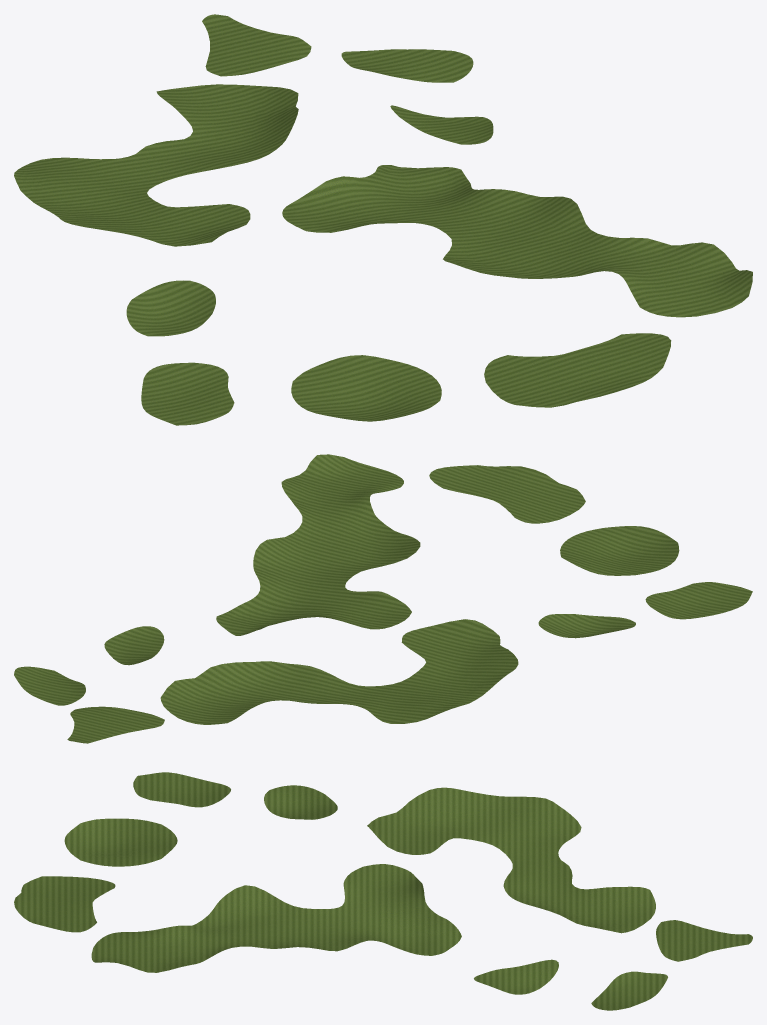
The model's file is fairway.fbx.
3 views of the same model, one above another, from view 1: azimuth 30°, elevation 25°; view 2: azimuth 150°, elevation 25°; view 3: azimuth 270°, elevation 25° (orthographic). The views are drawn at different scales.
Parts seen in each view (by area): view 1: fairway1; view 2: fairway1; view 3: fairway1.
Boxes of the visible parts, x1,y1,x2,y2 form: fairway1: (14, 14, 752, 425); fairway1: (14, 454, 752, 743); fairway1: (14, 772, 752, 1010).
Bounding box in the file's own units: 97.45 × 7.74 × 134.
Materials: 1 (1 with a texture image).
